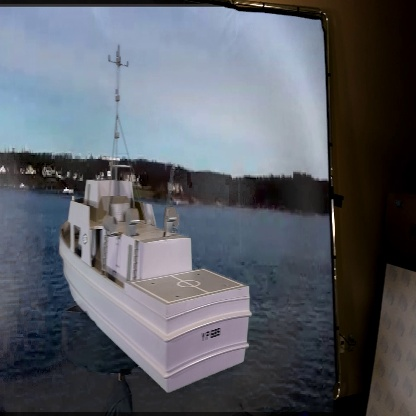YP689: (57, 50, 252, 384)
